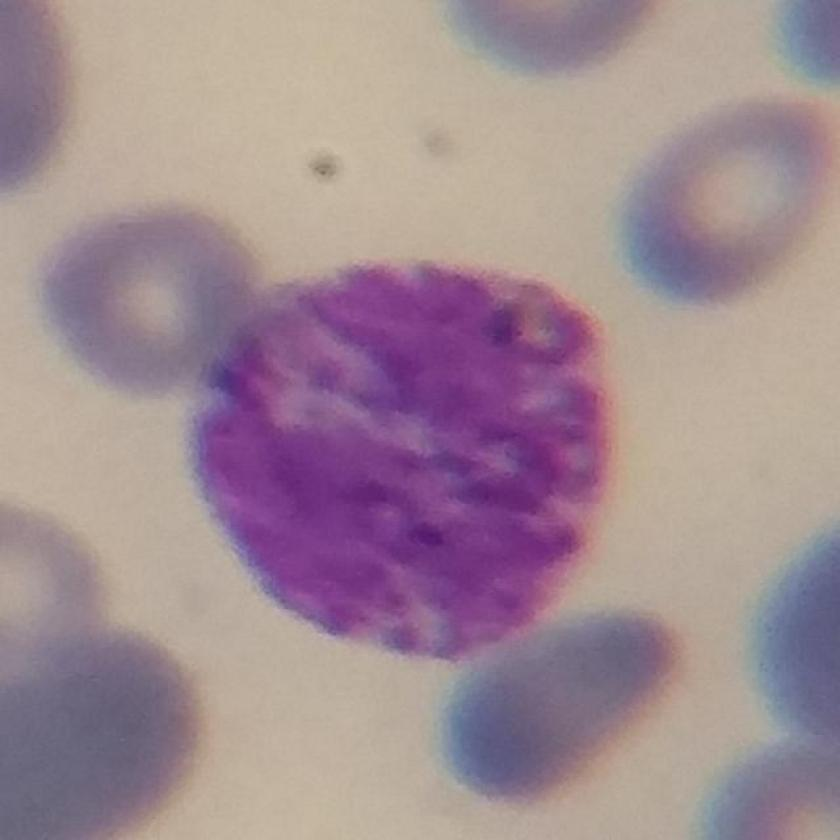basophil: (186, 244, 614, 665)
